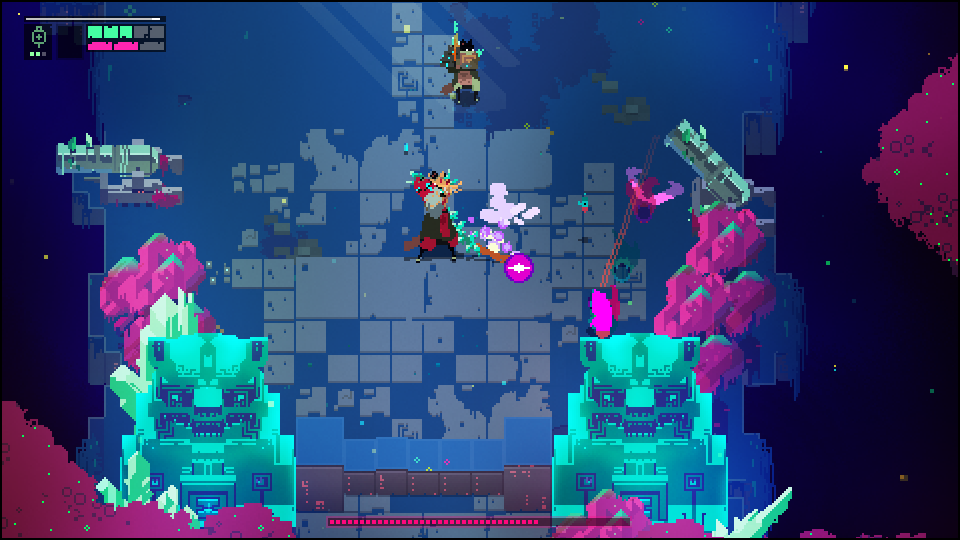hanged_man: (399, 164, 491, 268)
hanged_shot: (503, 249, 536, 288)
player: (584, 288, 618, 341)
